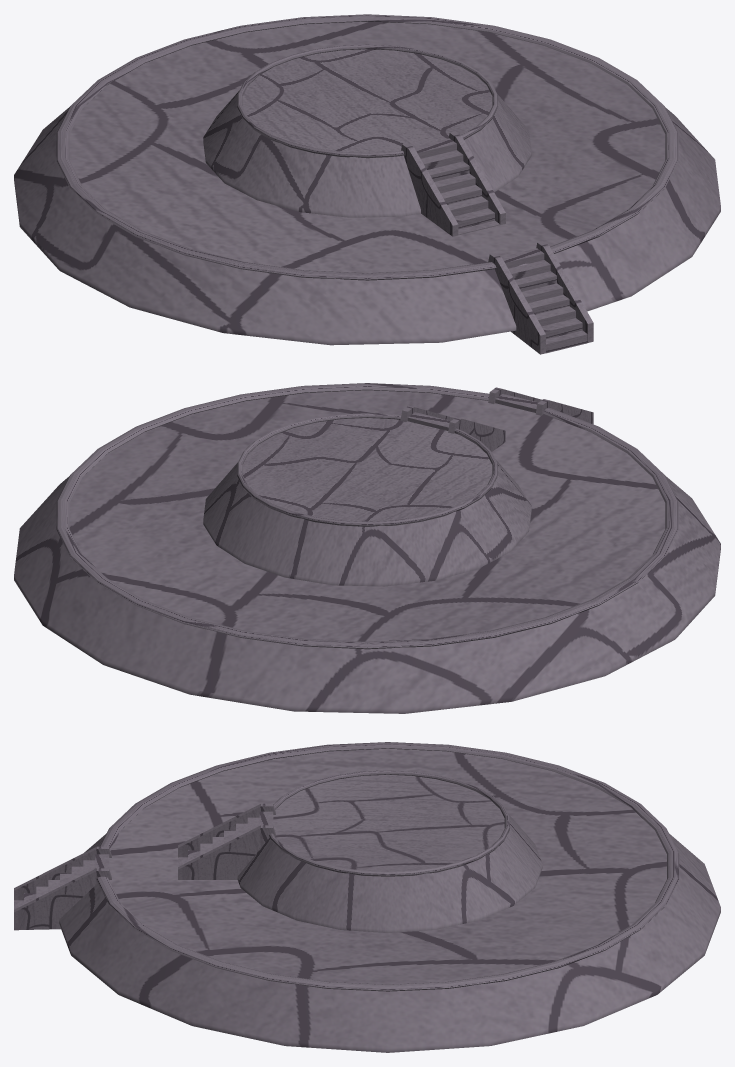
The model's file is 2Tier_Platform.obj.
The picture shows the model from 3 angles, top to bottom: view 1: azimuth 30°, elevation 25°; view 2: azimuth 150°, elevation 25°; view 3: azimuth 270°, elevation 25°; orthographic projection. The views are drawn at different scales.
Parts seen in each view (by area): view 1: MainPlatform1, MainPlatform, MainPlatform1 PlatformRing, Stair1, Stair, MainPlatform PlatformRing, Stair StairGuard, Stair1 StairGuard, Stair1 StairGuard1, Stair StairGuard1; view 2: MainPlatform1, MainPlatform, MainPlatform1 PlatformRing, MainPlatform PlatformRing, Stair StairGuard, Stair1 StairGuard; view 3: MainPlatform1, MainPlatform, MainPlatform1 PlatformRing, MainPlatform PlatformRing, Stair StairGuard1, Stair1 StairGuard1, Stair1 StairGuard, Stair StairGuard, Stair, Stair1.
Boxes of the visible parts, <box> form: MainPlatform1: <box>14,21,720,345</box>; MainPlatform: <box>203,49,531,217</box>; MainPlatform1 PlatformRing: <box>56,14,678,280</box>; Stair1: <box>501,248,587,353</box>; Stair: <box>414,138,500,235</box>; MainPlatform PlatformRing: <box>237,44,497,158</box>; Stair StairGuard: <box>401,143,458,236</box>; Stair1 StairGuard: <box>488,253,545,354</box>; Stair1 StairGuard1: <box>536,241,593,342</box>; Stair StairGuard1: <box>448,131,505,224</box>; MainPlatform1: <box>14,390,720,713</box>; MainPlatform: <box>203,418,531,586</box>; MainPlatform1 PlatformRing: <box>56,383,678,649</box>; MainPlatform PlatformRing: <box>237,413,497,526</box>; Stair StairGuard: <box>448,417,505,451</box>; Stair1 StairGuard: <box>535,399,593,424</box>; MainPlatform1: <box>59,748,720,1052</box>; MainPlatform: <box>237,774,542,932</box>; MainPlatform1 PlatformRing: <box>96,742,679,991</box>; MainPlatform PlatformRing: <box>269,770,509,876</box>; Stair StairGuard1: <box>178,825,275,879</box>; Stair1 StairGuard1: <box>14,868,111,930</box>; Stair1 StairGuard: <box>14,846,111,900</box>; Stair StairGuard: <box>178,803,275,857</box>; Stair: <box>178,811,273,866</box>; Stair1: <box>14,854,109,909</box>.
Size of the model in its own units: 25.5 by 4.33 by 27.06.
Materials: 1 (1 with a texture image).
